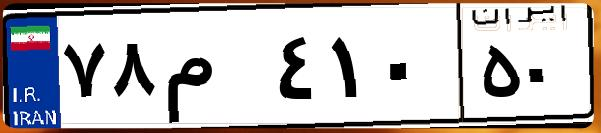0: (385, 28, 445, 110), (525, 38, 570, 115)
1: (330, 28, 385, 110)
4: (270, 28, 330, 110)
5: (475, 38, 525, 113)
7: (57, 26, 110, 100)
8: (110, 28, 158, 98)
م: (158, 20, 270, 120)
